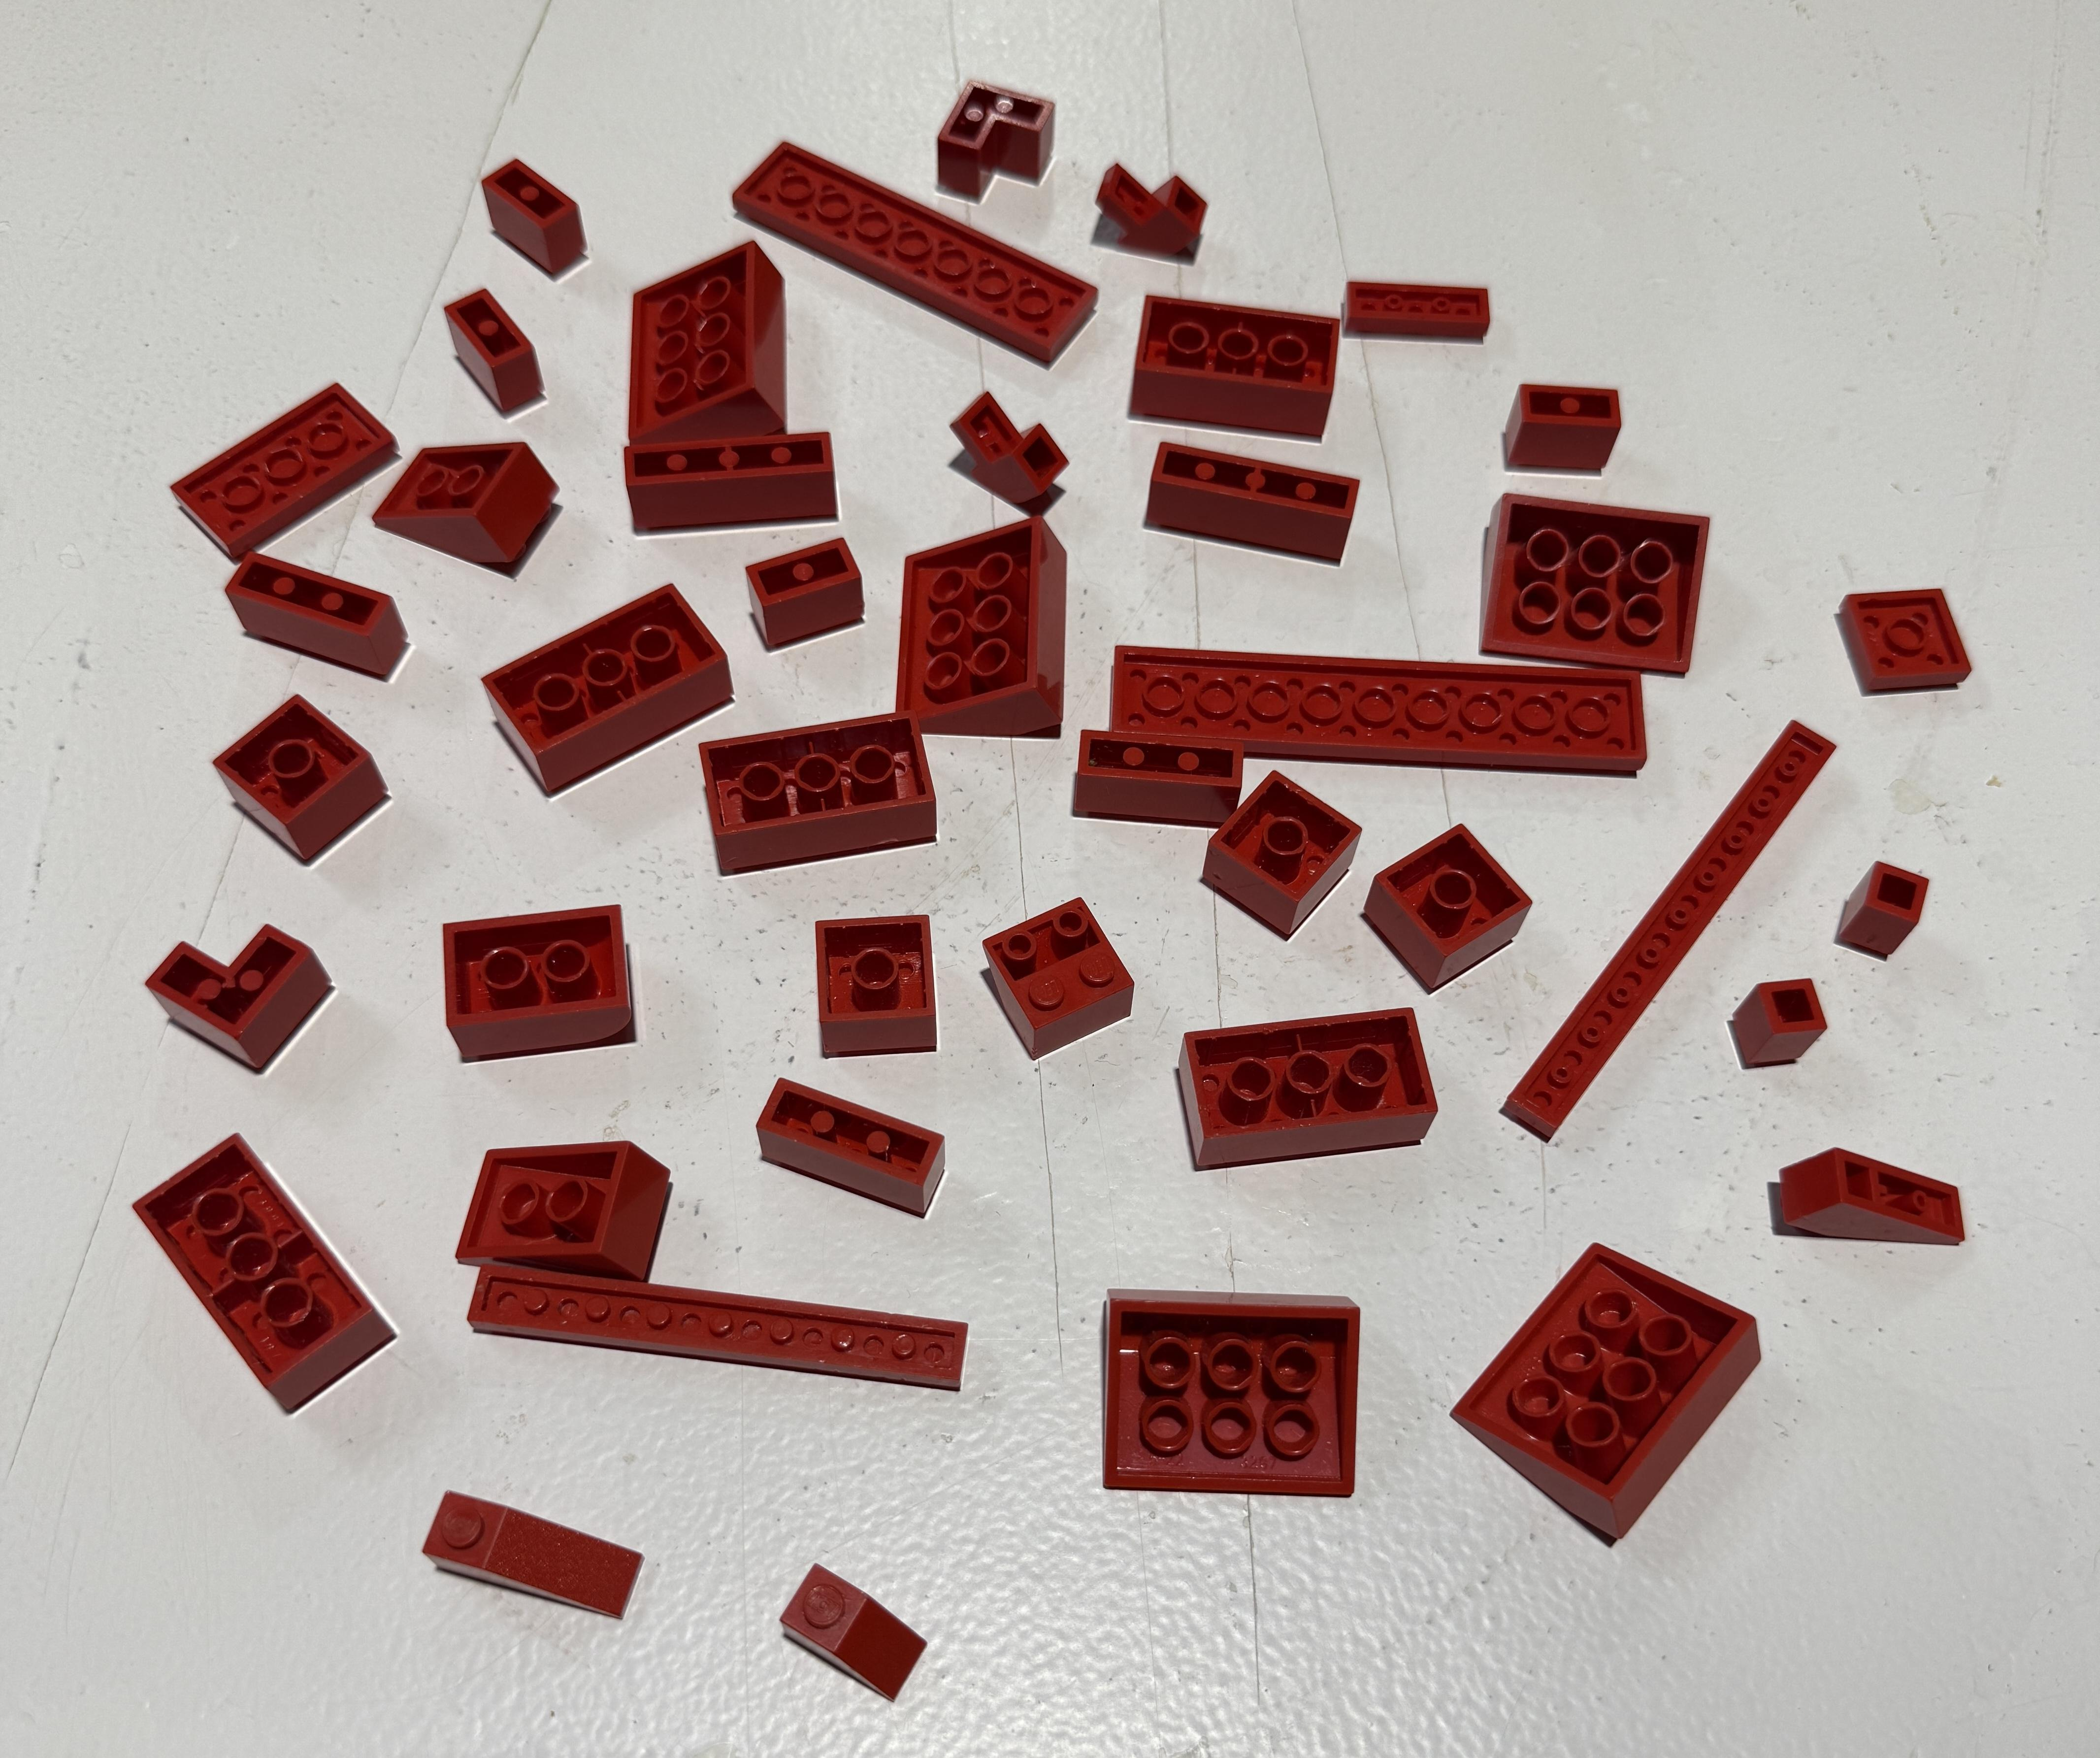Special_02: (330, 422, 583, 596), (424, 1121, 675, 1292)
brick_1x1: (1830, 848, 1960, 977), (1718, 949, 1833, 1090)
brick_1x2: (471, 136, 609, 300), (420, 267, 558, 426), (1477, 365, 1653, 483), (736, 511, 877, 656)
brick_1x3: (740, 1050, 980, 1244), (209, 530, 440, 703), (1047, 713, 1277, 849)
brick_1x4: (586, 399, 858, 558), (1130, 424, 1388, 576)
brick_2x2: (185, 678, 413, 872), (1352, 811, 1538, 1003), (1195, 755, 1374, 942), (795, 888, 949, 1074)
brick_2x4: (471, 572, 750, 811), (1155, 991, 1456, 1186), (665, 691, 947, 891), (1099, 277, 1367, 455)
plate_2x2: (1810, 553, 2011, 731)
